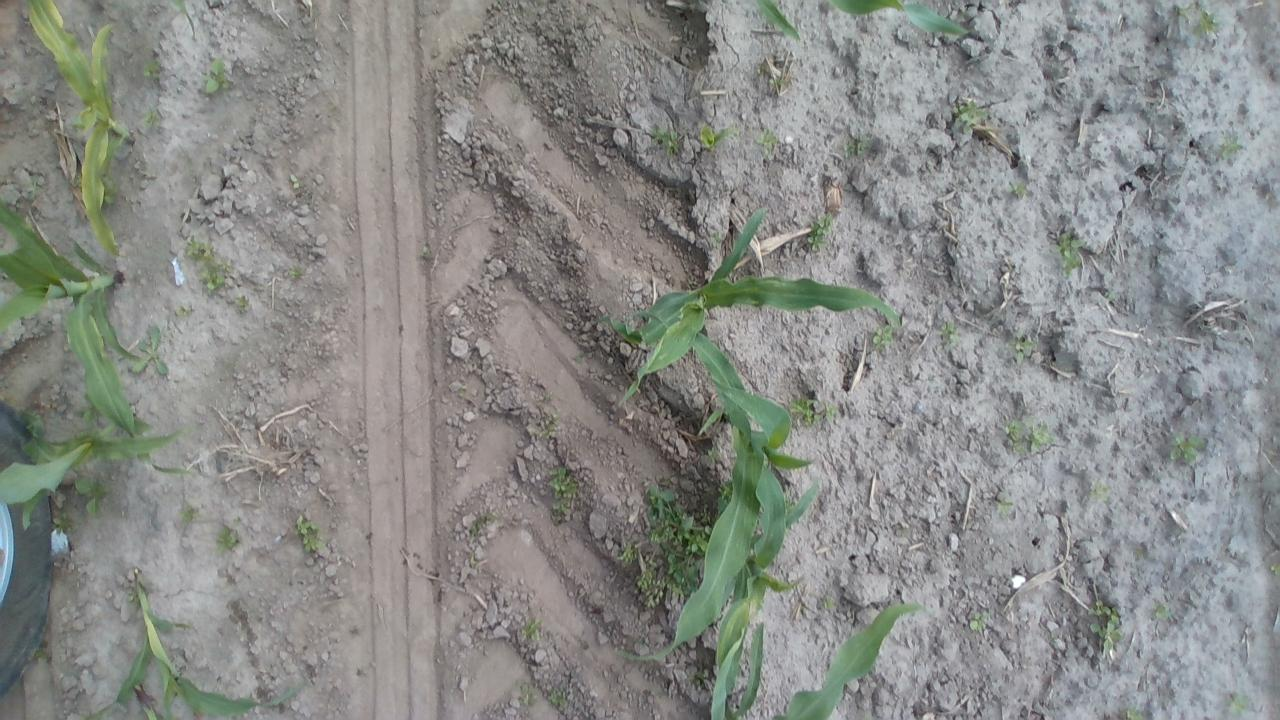Maize: (623, 328, 817, 660), (614, 202, 900, 411), (0, 204, 197, 477), (22, 0, 146, 260), (84, 578, 307, 718), (708, 476, 822, 714), (0, 416, 182, 531), (771, 604, 920, 720), (824, 0, 982, 37), (708, 626, 745, 718), (758, 0, 801, 41), (133, 686, 175, 720), (172, 0, 198, 38)
Weeds: (646, 480, 709, 592), (1090, 598, 1123, 658), (1006, 417, 1052, 458), (132, 326, 170, 374), (74, 476, 111, 517), (636, 568, 669, 608), (951, 100, 986, 136), (1050, 232, 1080, 274), (546, 468, 578, 502), (204, 56, 231, 95), (808, 210, 834, 250), (699, 122, 738, 146), (1170, 431, 1198, 464), (200, 256, 228, 289), (650, 127, 681, 155), (788, 394, 814, 425), (298, 522, 323, 554), (758, 125, 782, 157), (1228, 692, 1256, 718), (1218, 132, 1242, 162), (1013, 330, 1032, 362), (470, 512, 494, 537), (1196, 10, 1216, 38), (51, 512, 76, 534), (218, 526, 239, 552), (872, 324, 894, 348), (1090, 478, 1114, 500), (717, 480, 735, 509), (850, 130, 870, 156), (80, 396, 100, 420), (185, 236, 209, 256), (102, 175, 120, 201), (540, 415, 558, 440), (144, 58, 166, 78), (940, 320, 960, 341), (617, 545, 636, 565), (526, 618, 545, 638), (1178, 1, 1196, 20), (1118, 708, 1146, 720), (970, 612, 984, 634), (552, 506, 568, 524), (995, 498, 1015, 512), (1009, 180, 1025, 197), (144, 110, 160, 126), (824, 400, 838, 418), (1154, 602, 1168, 620), (172, 308, 196, 318), (183, 505, 198, 520), (289, 264, 305, 278), (823, 594, 837, 609), (236, 296, 248, 312), (548, 691, 563, 702), (1270, 562, 1280, 576)
